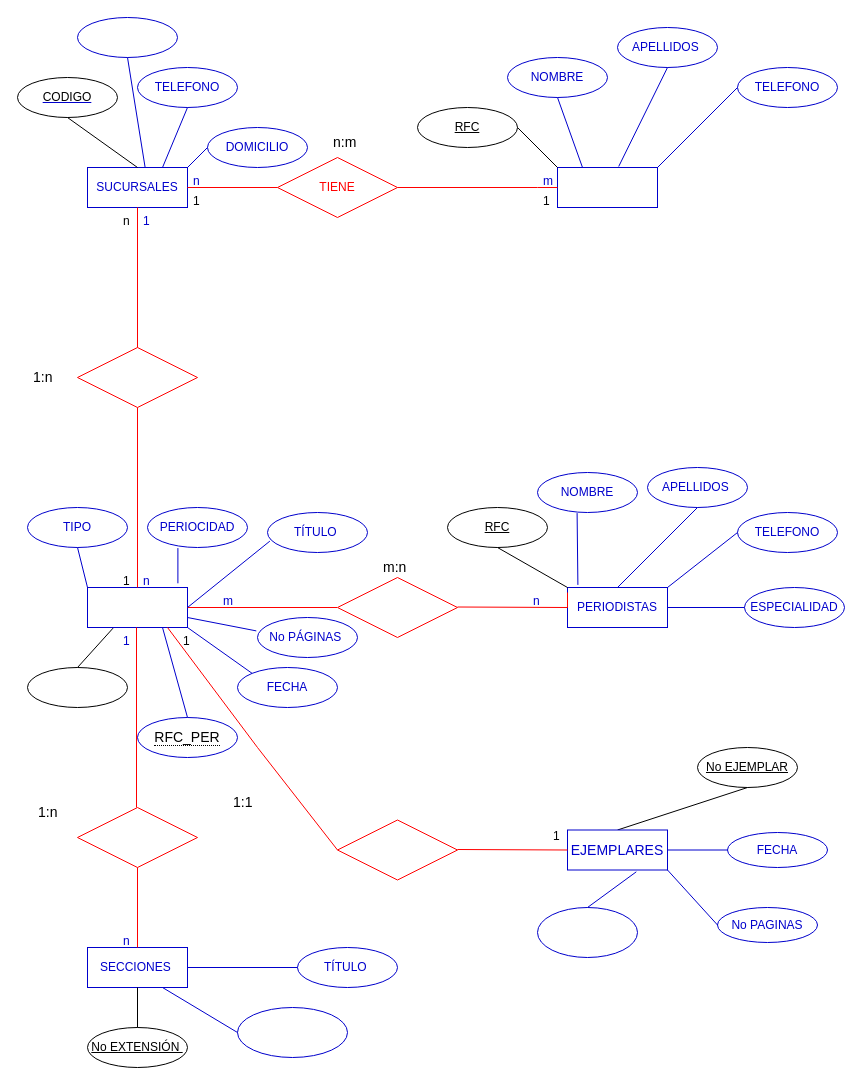
This 862x1085 diagram has some shape labels left out. Here are the shapes that lost their labels. From the top down, the centre of each, then its label:
point (127, 37): RFC_EMP
point (607, 187): EMPLEADOS
point (137, 377): PUBLICAR
point (137, 607): REVISTAS
point (397, 607): ESCRIBIR
point (77, 687): No REGISTRÓ
point (137, 837): GUARDAR
point (397, 849): ALMACENAR
point (587, 932): No EJEMPLARES VENDIDOS
point (292, 1032): No REG_REVIS
